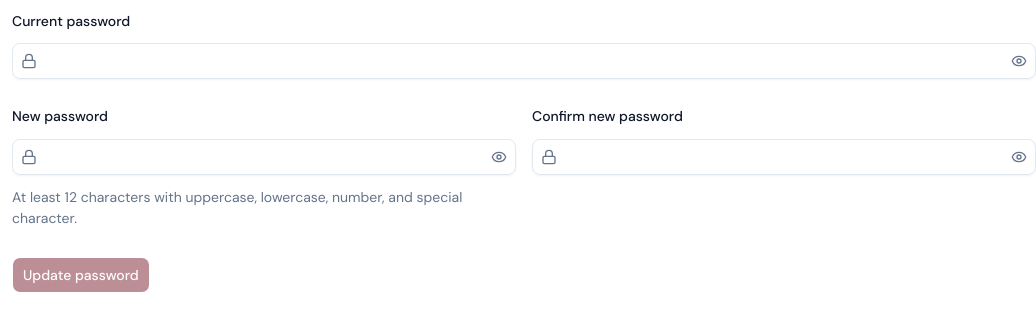
Test: ChangePasswordForm › disables the submit button until every field is filled
Expected: the button "Update password" is disabled, [12,256,150,292]
Type "oldpass" into the password field labelled "Current password". click: (522, 61)
box: [37,43,1007,79]
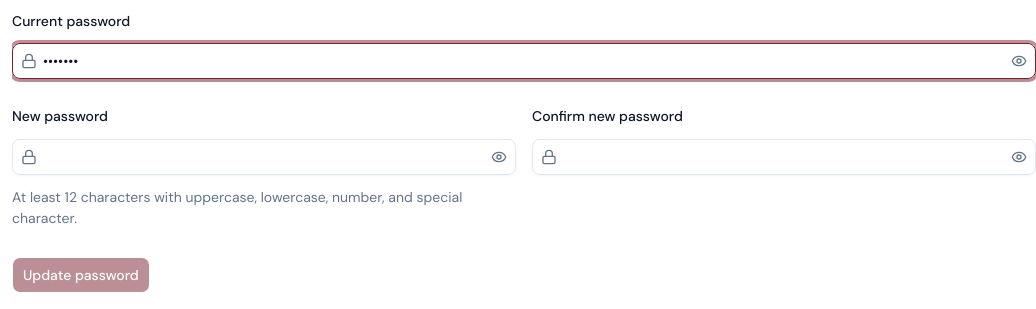
Expected: the button "Update password" is disabled, [12,256,150,292]
Type "Test@123456!" into the password field labelled "New password". click: (262, 156)
box: [37,138,487,174]
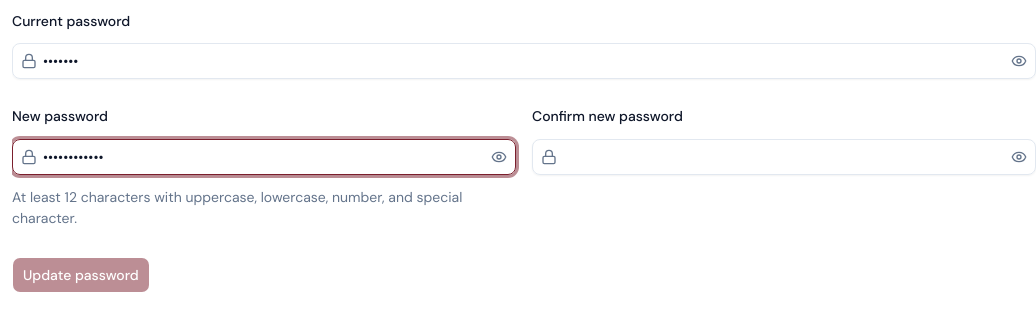
Expected: the button "Update password" is disabled, [12,256,150,292]
Type "Test@123456!" into the password field labelled "Confirm new password". click: (782, 156)
box: [557,138,1007,174]
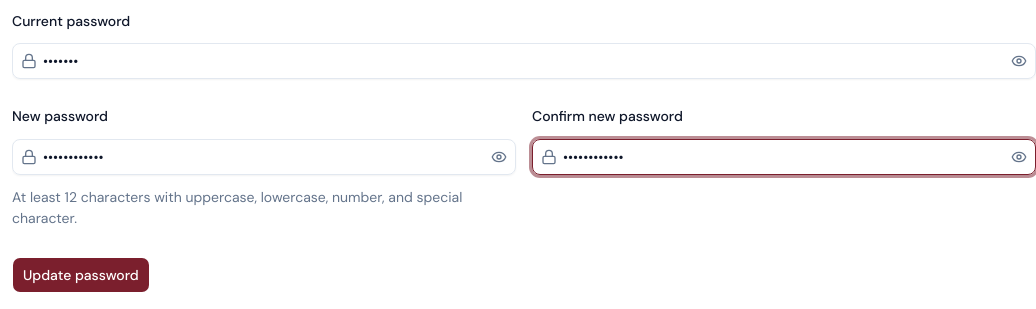
Expected: the button "Update password" is enabled, [12,256,150,292]
